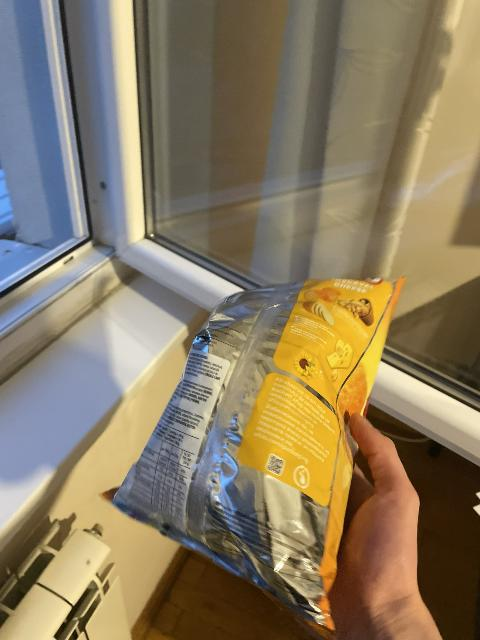Chio Cascaval 125g: (92, 277, 409, 634)
